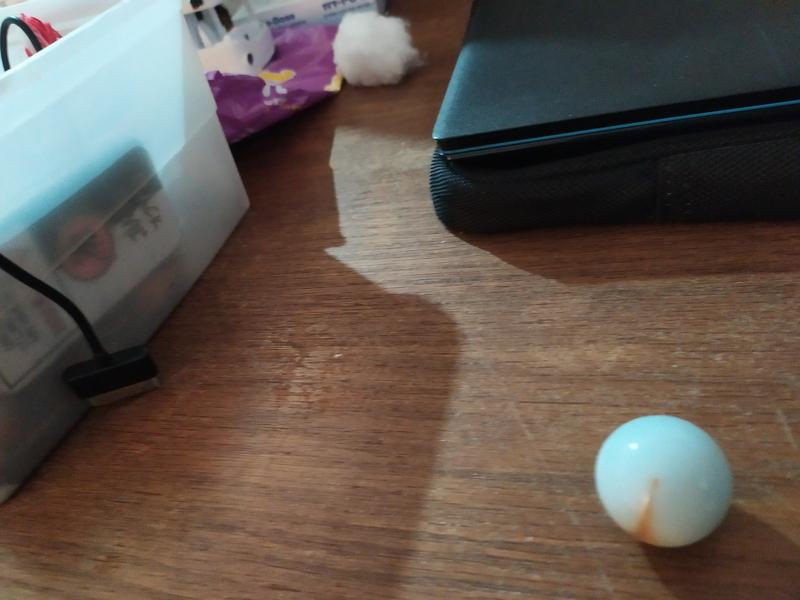Warning: (590, 411, 738, 551)
